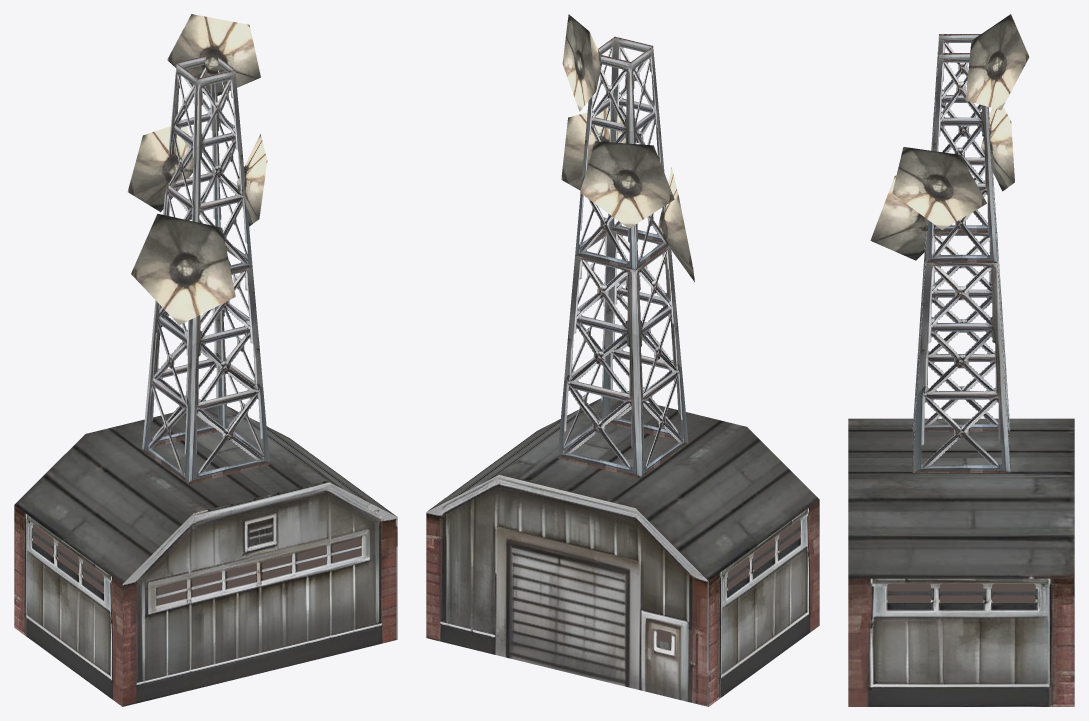
File: relaystation_hdtex.glb
3 views of the same model, side by side, from view 1: azimuth 30°, elevation 25°; view 2: azimuth 150°, elevation 25°; view 3: azimuth 270°, elevation 25° (orthographic). The views are drawn at different scales.
Parts seen in each view (by area): view 1: RelayStation, LitWin_RelayStation; view 2: RelayStation, LitWin_RelayStation; view 3: RelayStation, LitWin_RelayStation.
Boxes of the visible parts, bbox=[...] form: RelayStation: bbox=[14, 14, 397, 706]; LitWin_RelayStation: bbox=[33, 524, 361, 605]; RelayStation: bbox=[426, 14, 819, 706]; LitWin_RelayStation: bbox=[656, 519, 800, 643]; RelayStation: bbox=[848, 14, 1074, 706]; LitWin_RelayStation: bbox=[887, 583, 1035, 602].
Size of the model in its own units: 8.15 by 16.98 by 5.55.
Materials: 1 (1 with a texture image).
